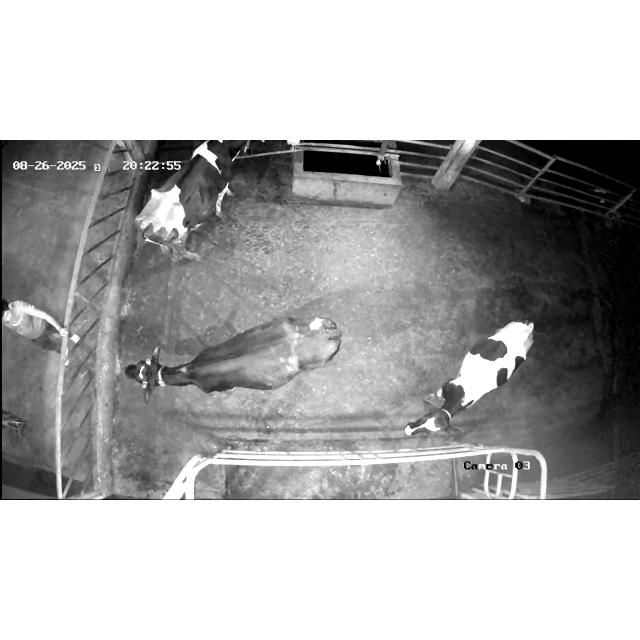stand: (117, 306, 353, 406), (394, 311, 546, 447), (126, 140, 262, 256)
